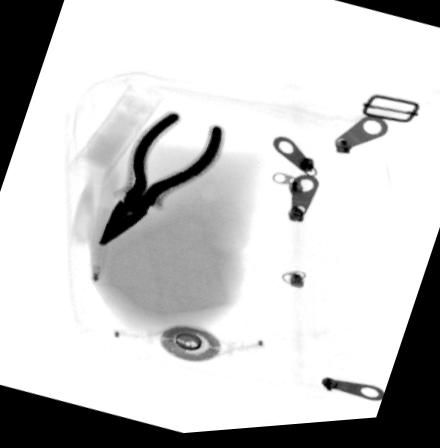Pliers: (96, 113, 224, 248)
